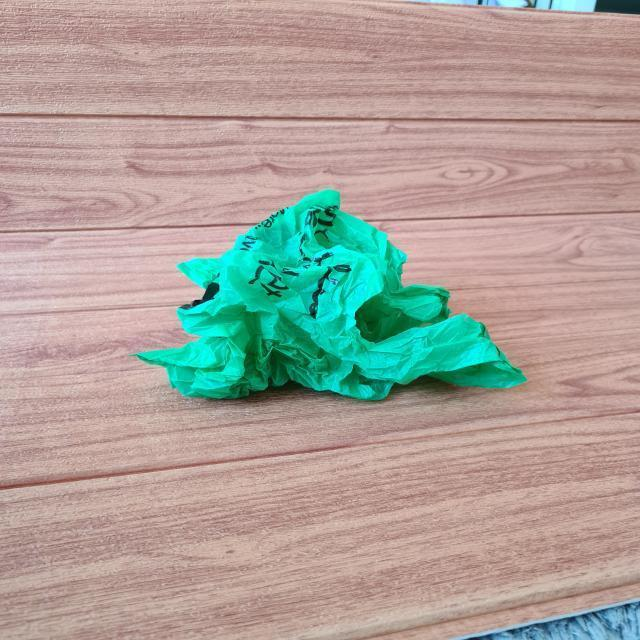Plastic_Bag: (130, 174, 553, 428)
